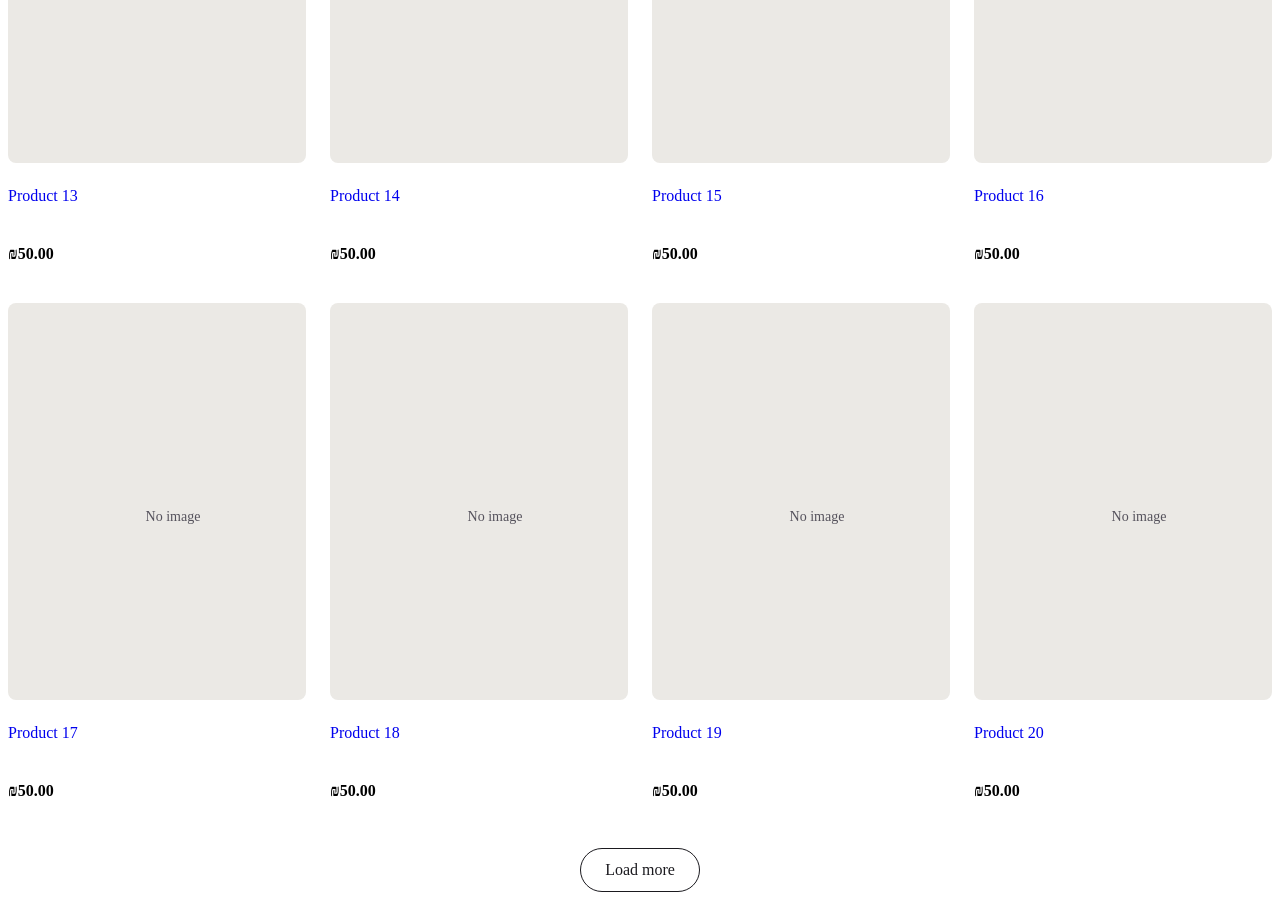
CategoryProductsPage › explains why "Load more" failed ({"name":"ApiError","status":500,"code":"HTTP_500","fieldErrors":[],"extensions":{}}) and keeps the retry
(page scrolled)
Click the button "Load more" at (640, 870), box [580,848,700,892]
(page scrolled)
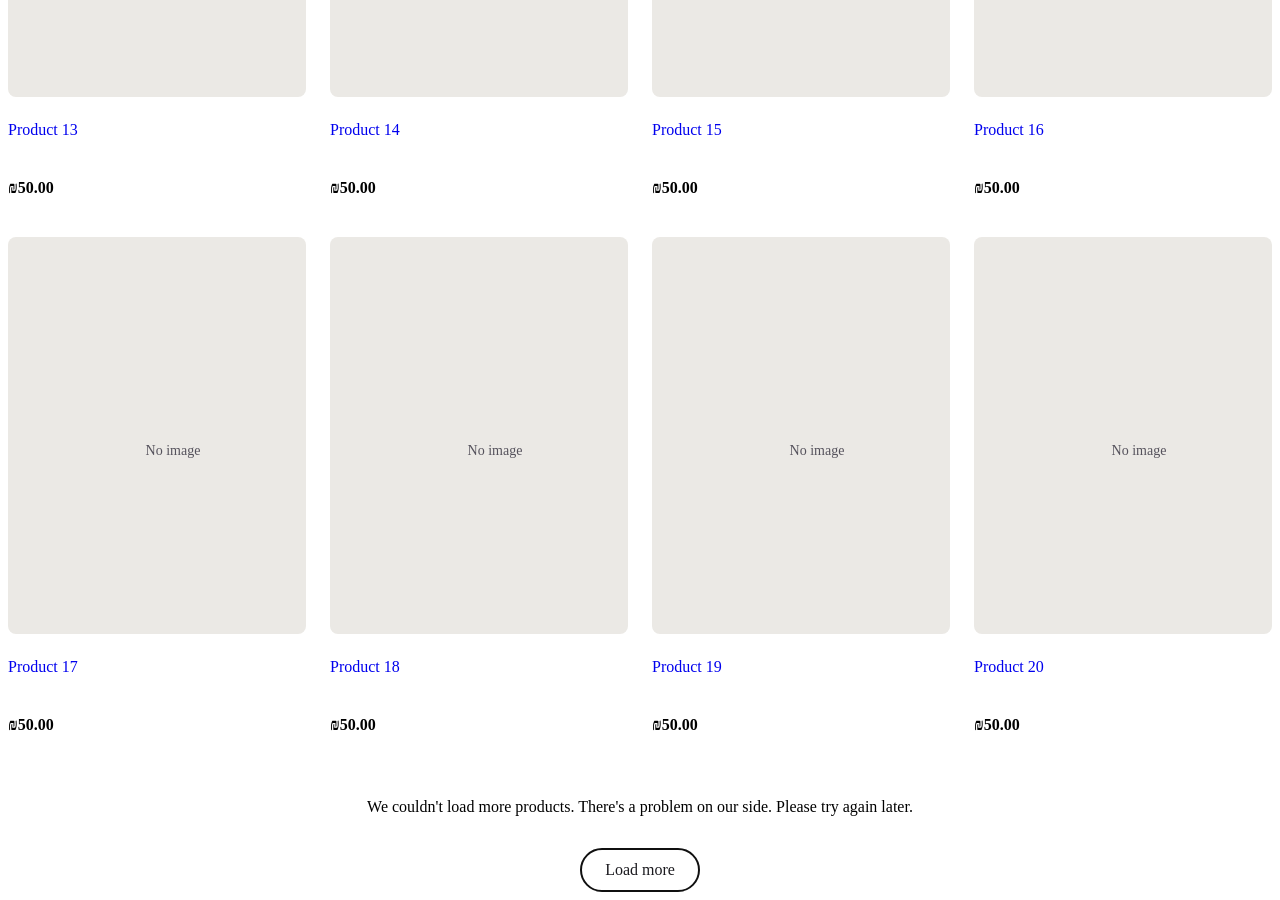
Now the message shows "We couldn't load more products. There's a problem on our side. Please try again later.", box [367,798,913,816]
Click the button "Load more" at (640, 870), box [580,848,700,892]
(page scrolled)
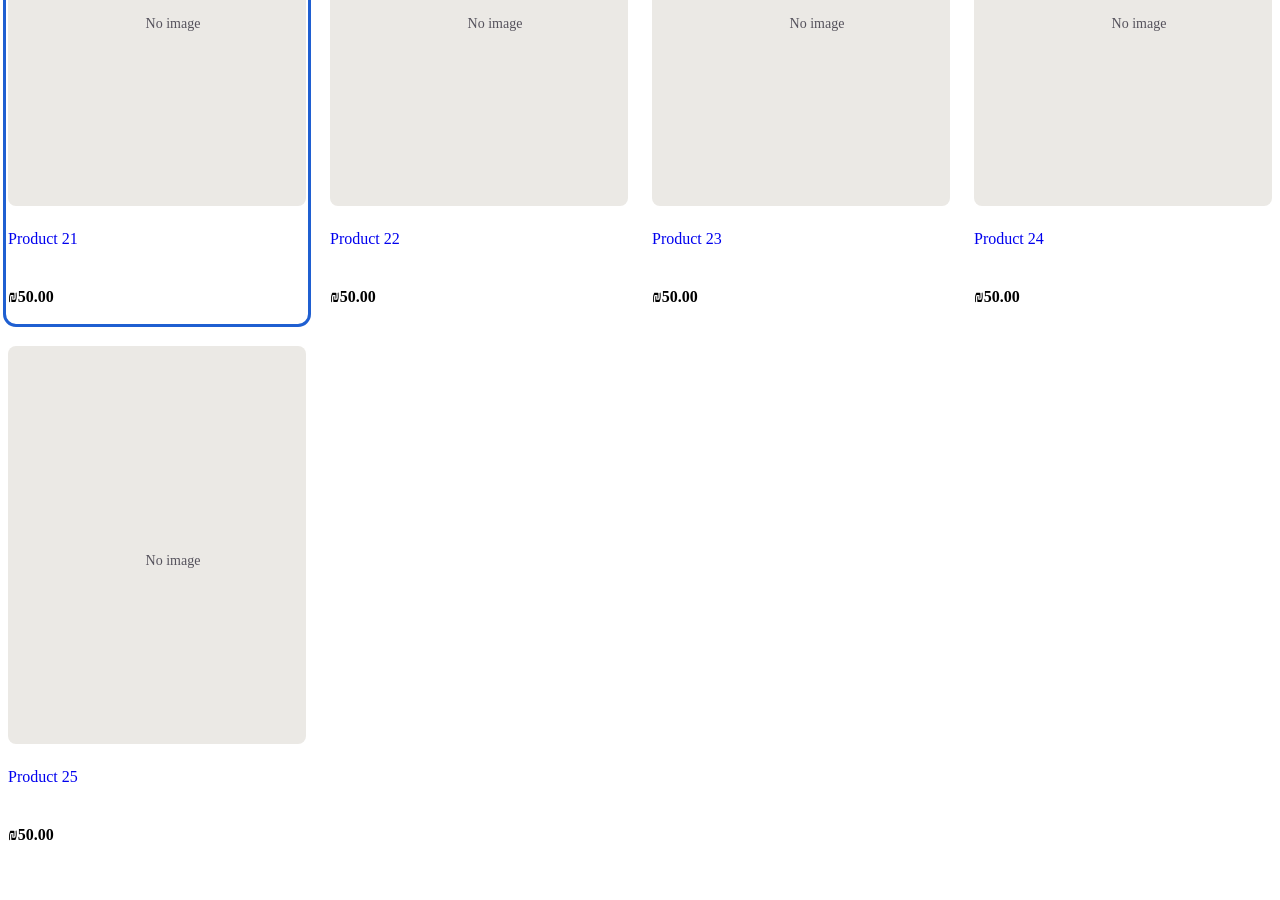
Now the link "Product 25" is shown, box [8,768,78,785]
Now the message "We couldn't load more products. There's a problem on our side. Please try again" is gone
